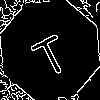T: (25, 25, 73, 80)
